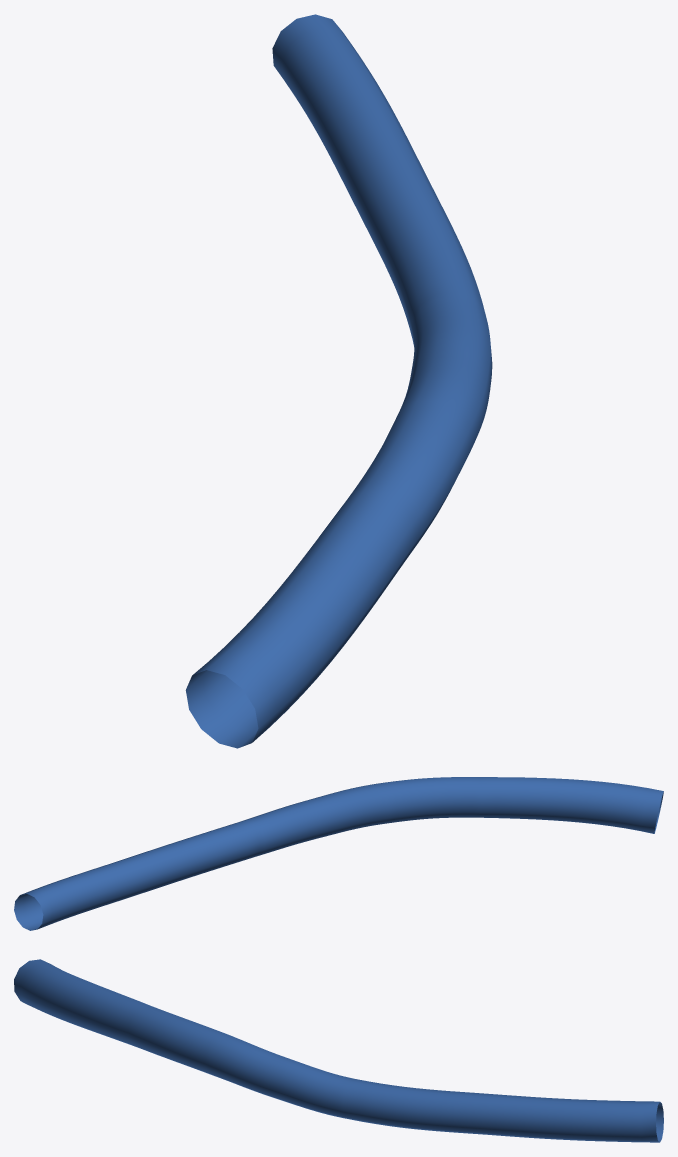
3 views of the same model, one above another, from view 1: azimuth 30°, elevation 25°; view 2: azimuth 150°, elevation 25°; view 3: azimuth 270°, elevation 25° (orthographic). The views are drawn at different scales.
Visible parts, largest first — view 1: 左侧腋静脉; view 2: 左侧腋静脉; view 3: 左侧腋静脉.
Part boxes in pixels (bbox=[...]): 左侧腋静脉: bbox=[185, 14, 492, 748]; 左侧腋静脉: bbox=[14, 777, 663, 930]; 左侧腋静脉: bbox=[14, 959, 663, 1142].
Size of the model in its own units: 0.0952 by 0.0176 by 0.1395.
